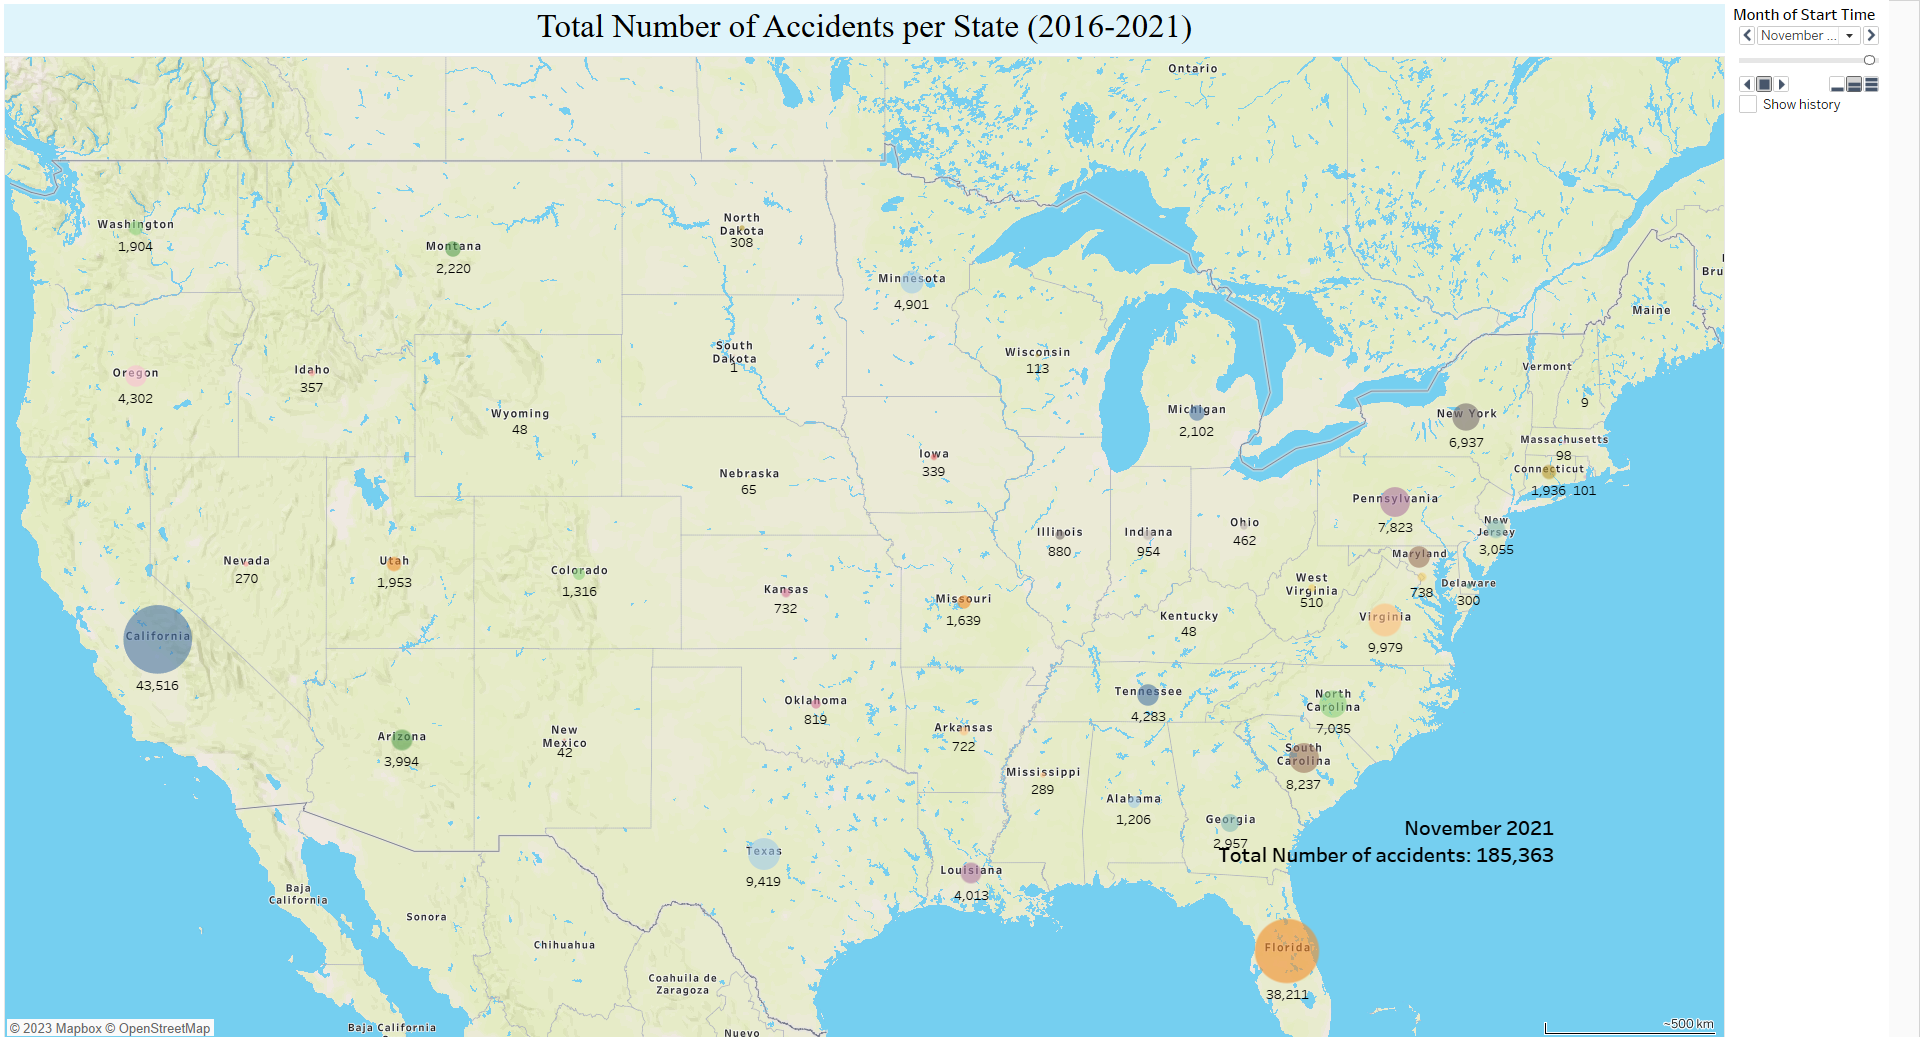

This screenshot's page, from the dashboard's own definition file:
{"tool":"tableau","page":{"name":"Number of accidents per state over time","canvas":[1000,1000],"units":"permille","ordinal":3},"visuals":[{"type":"worksheet","title":"Total Number of accidents per State (2016-2021)","mark":"Circle","box":[4.8,9.4,920.3,981.2]},{"type":"currpage","title":"Total Number of accidents per State (2016-2021)","box":[925.2,9.4,70,139.8]},{"type":"worksheet","title":"Sheet 5","mark":"Automatic","box":[690.5,753.1,276.3,137.7]}]}

Visuals, with their boxes on the dashboard's canvas, which has no fixed pixel size, in thousandths of its width and height (x1, y1, x2, y2). These are canvas units, not pixel positions in the 1920x1037 screenshot, which may show the page scaled, cropped or inside an application window:
"Total Number of accidents per State (2016-2021)" worksheet (Circle marks): 5,9,925,991
"Total Number of accidents per State (2016-2021)" currpage: 925,9,995,149
"Sheet 5" worksheet: 690,753,967,891
